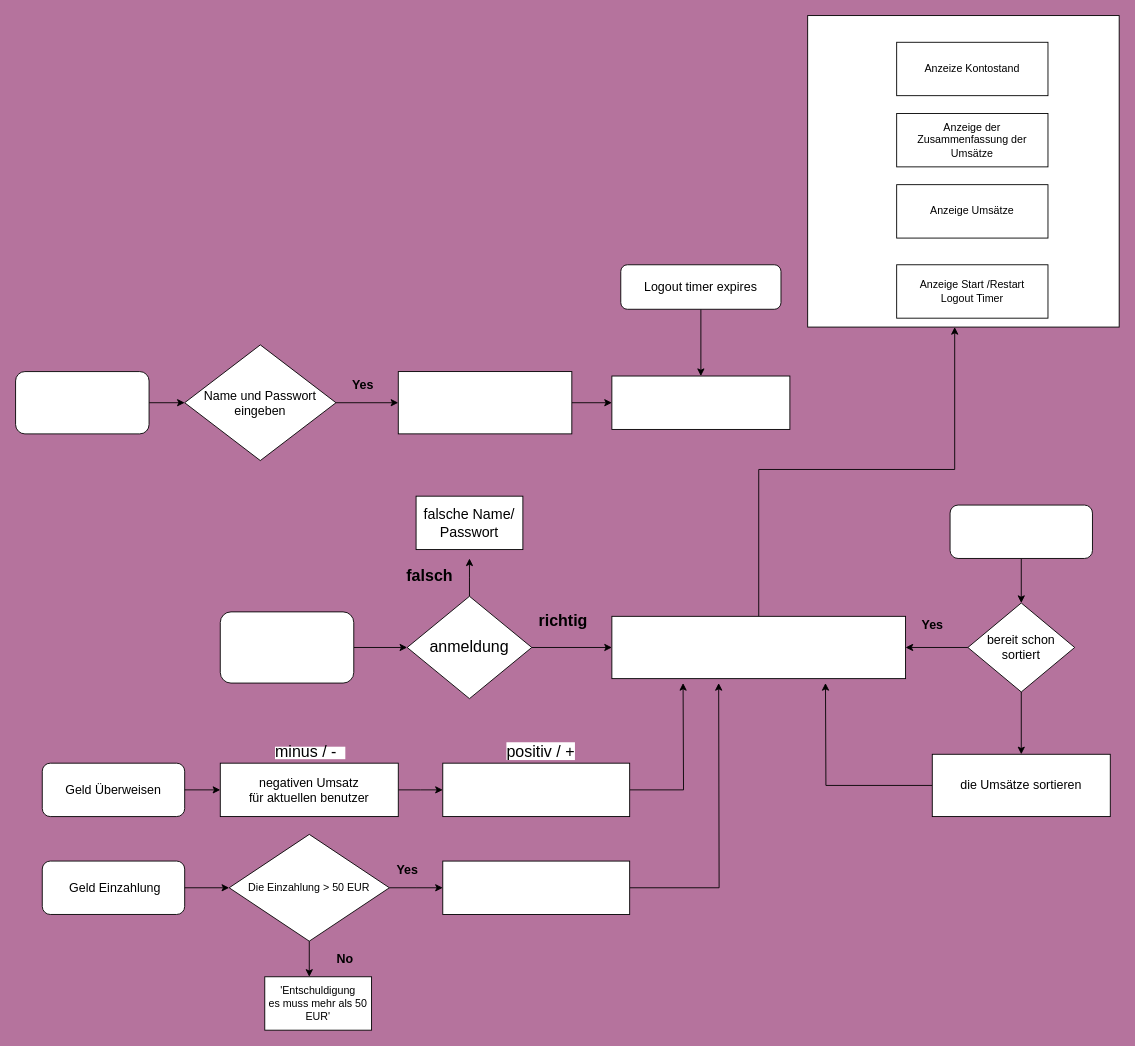
Some shapes in this 1135 by 1046 pixel diagram are drawn without their labels. Each missing label, with the centre of its shape:
"Anzeige der Abmeldungsseite UI" belongs at (700,402).
"Anzeige der Prozesse und Leistungen" belongs at (758,647).
"Benutzer anmelden" belongs at (286,647).
"Benutzer die Umsätze sortieren" belongs at (1020,531).
"Daten des Benutzer löschen" belongs at (484,402).
"den Konto kündigen" belongs at (82,402).
"positiven Umsatz für den Empfänger" belongs at (536,789).
"positiven Umsatz zu aktuellen Benutzer hinzufügen" belongs at (536,887).
